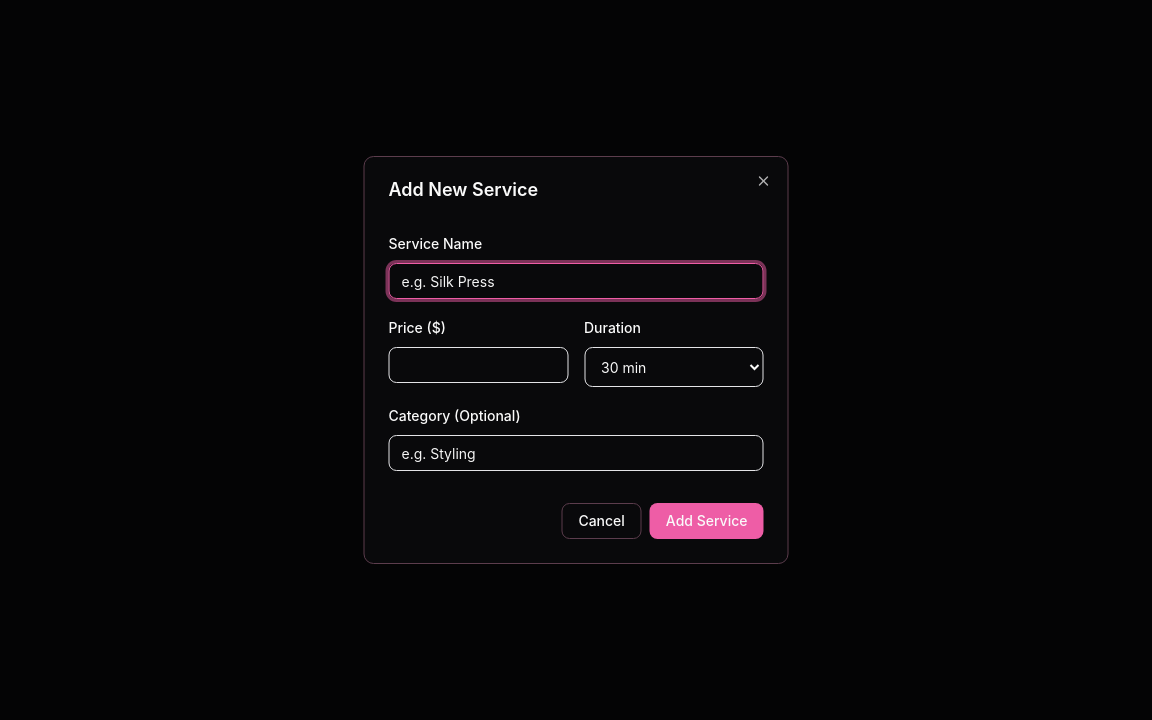
AddServiceModal › validates input
Click the button "Add Service" at (707, 521), box x1=650 y1=503 x2=764 y2=539
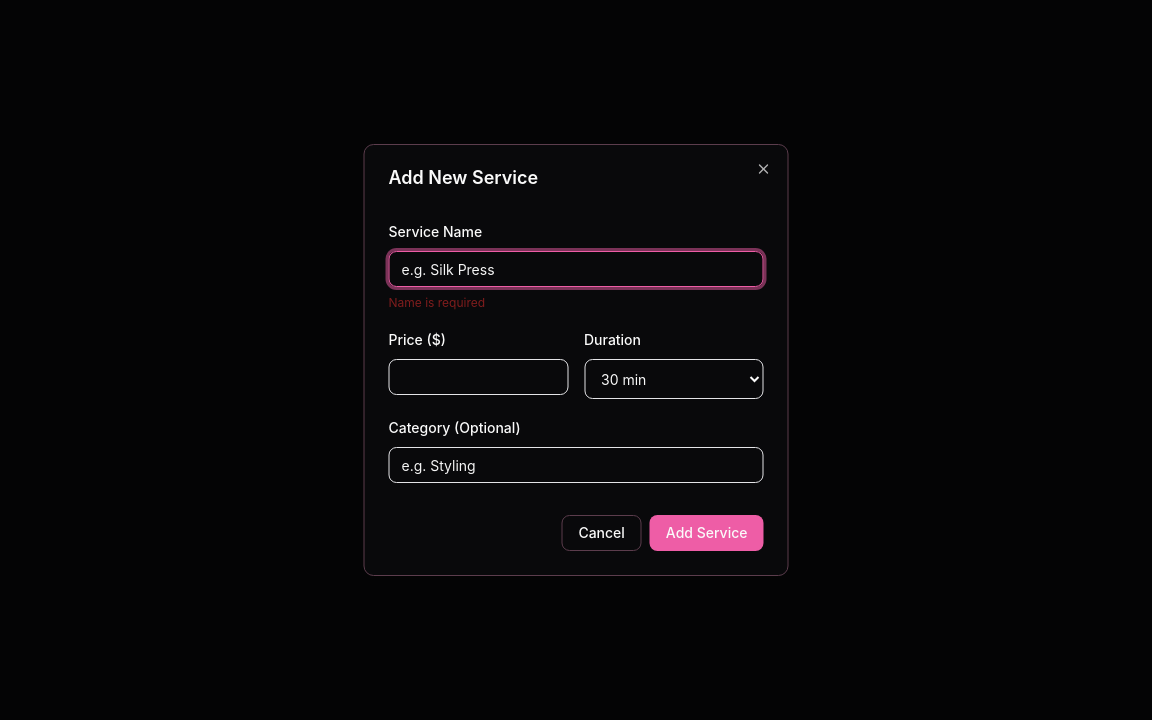
Expected: the text "Name is required" is shown, x1=388 y1=295 x2=485 y2=310
